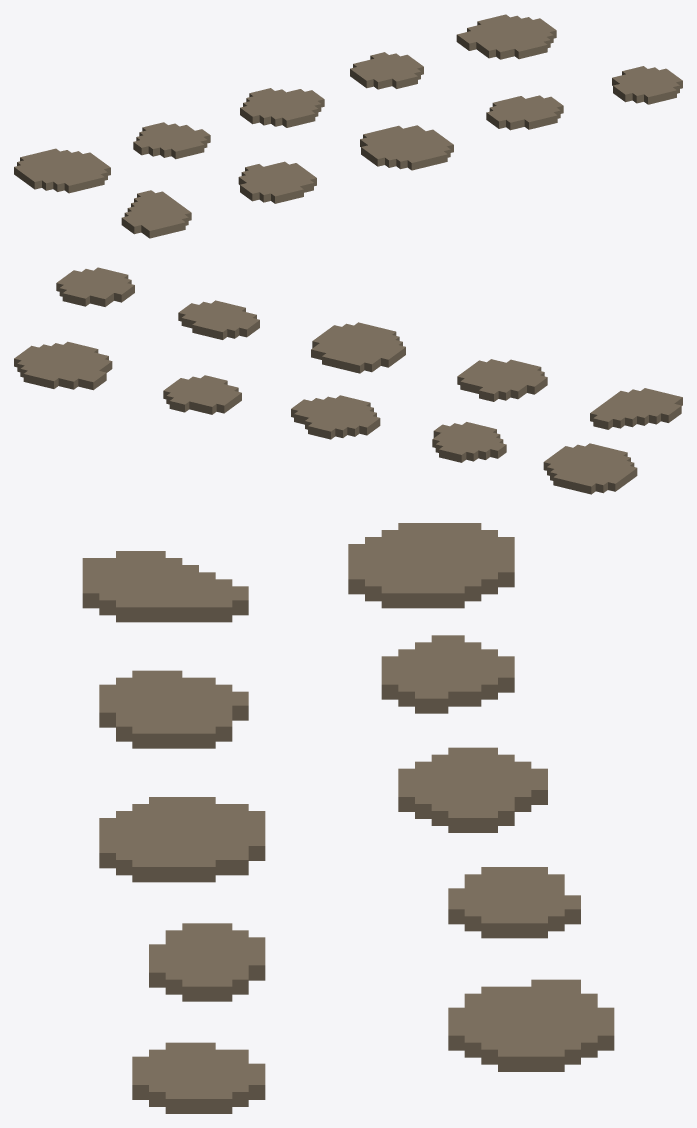
The model's file is Korean_floor_04.FBX.
The picture shows the model from 3 angles, top to bottom: view 1: azimuth 30°, elevation 25°; view 2: azimuth 150°, elevation 25°; view 3: azimuth 270°, elevation 25°; orthographic projection. The views are drawn at different scales.
Parts seen in each view (by area): view 1: Voxel_Korean_traditional village-27; view 2: Voxel_Korean_traditional village-27; view 3: Voxel_Korean_traditional village-27.
Boxes of the visible parts, left/top/right/bottom form: Voxel_Korean_traditional village-27: left=14, top=14, right=682, bottom=238; Voxel_Korean_traditional village-27: left=14, top=267, right=682, bottom=494; Voxel_Korean_traditional village-27: left=82, top=523, right=614, bottom=1113.
Size of the model in its own units: 81.98 by 0.9998 by 31.99.
1 material, 1 textured.
